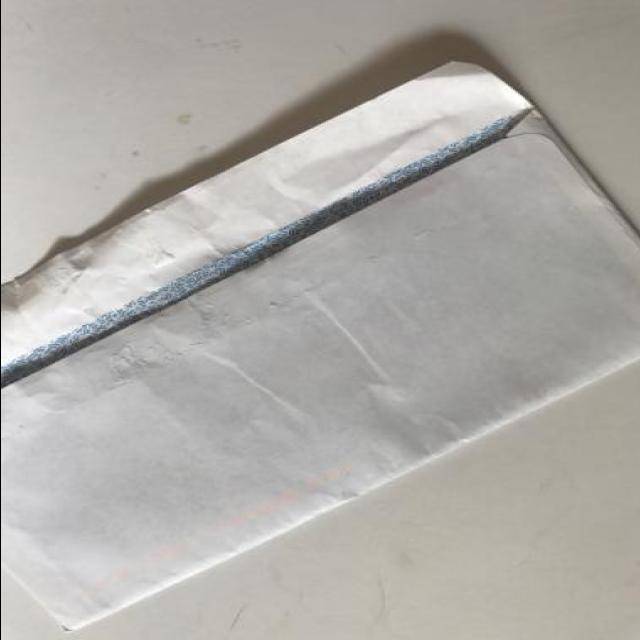kertas: (0, 58, 640, 637)
